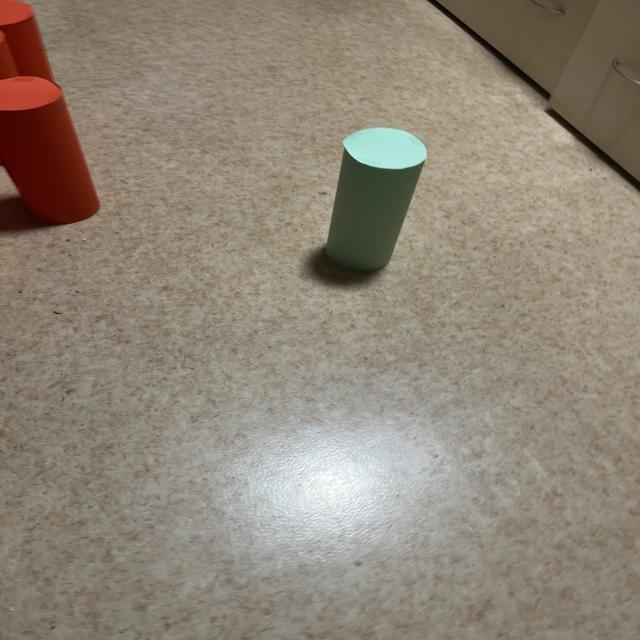meta: (326, 128, 427, 271)
